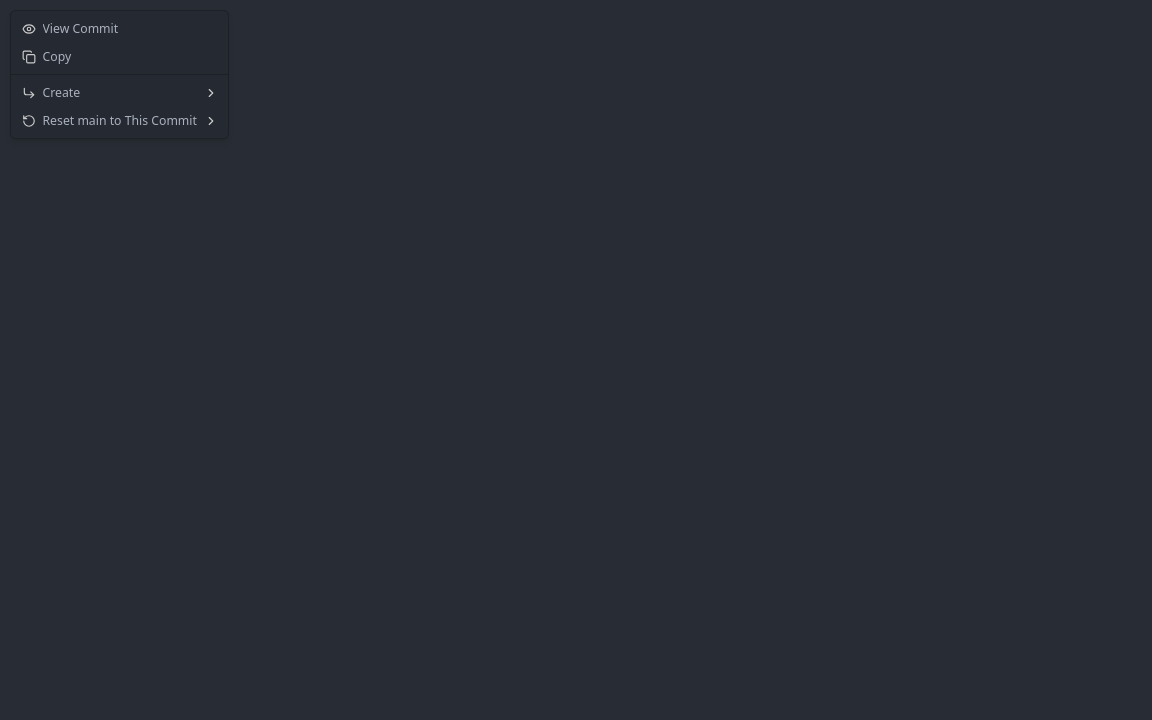
Test case: GitHistoryContextMenu — Create › Tag › disables the create button while the name is empty
Hover over the menu item "Create" at (120, 92), box [14,78,225,106]
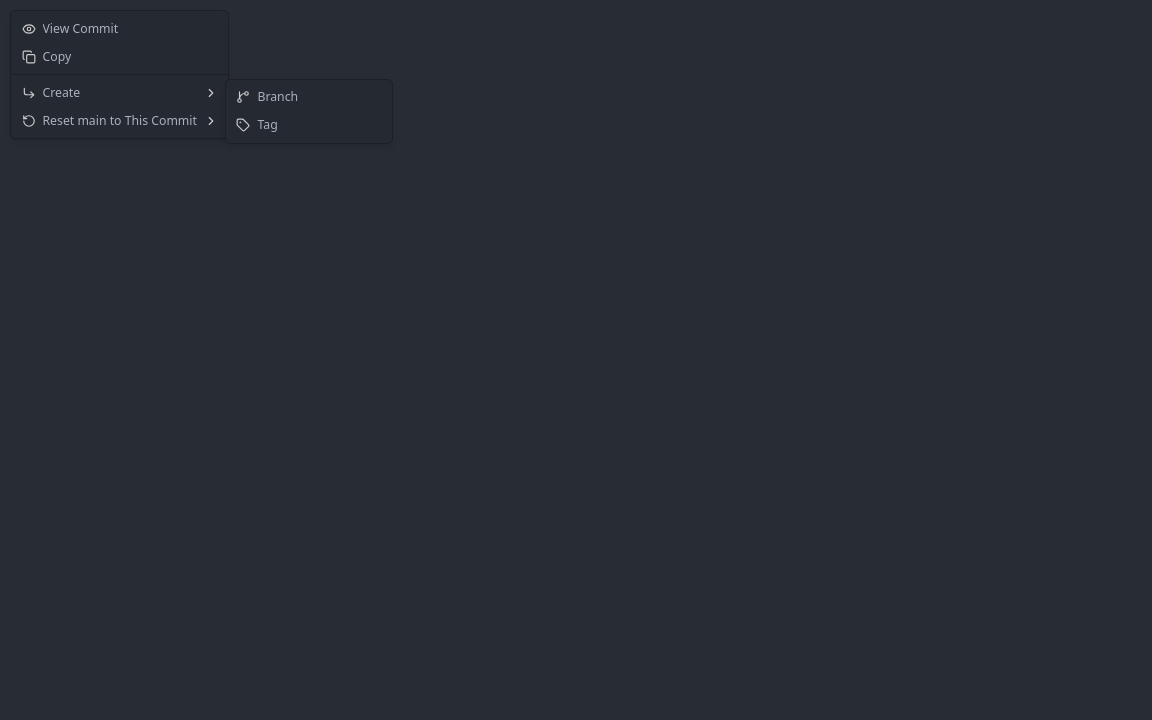
Click the menu item "Tag" at (309, 125), box [229,111,388,139]
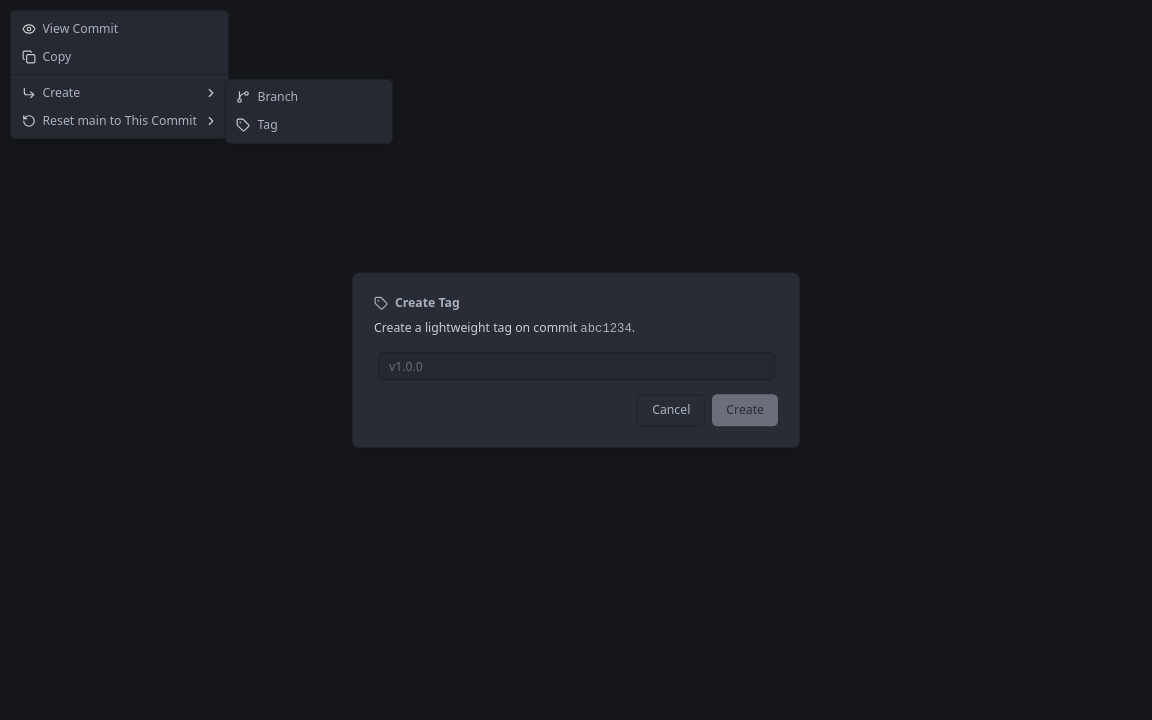
Expected: the button "Create" is disabled, [712,394,778,426]
